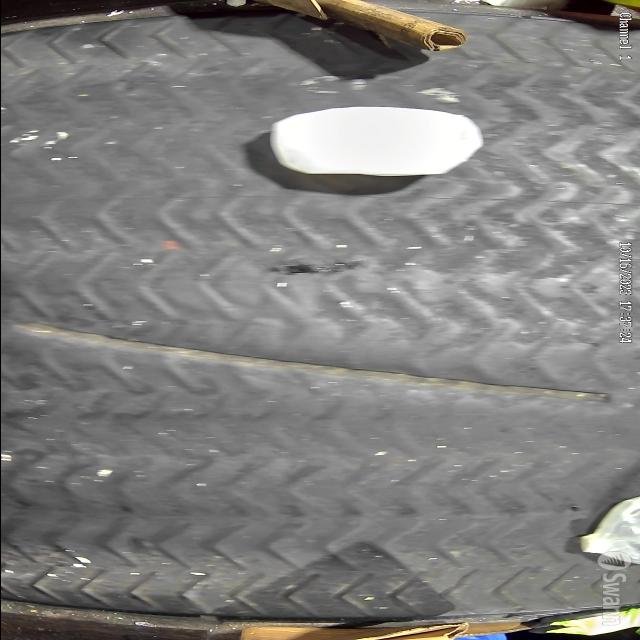can: (255, 106, 494, 180)
